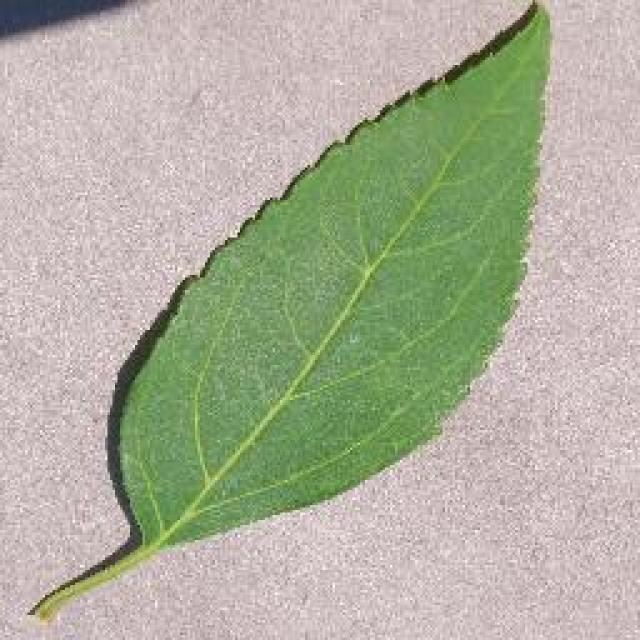Cherry___healthy: (155, 37, 490, 486)
